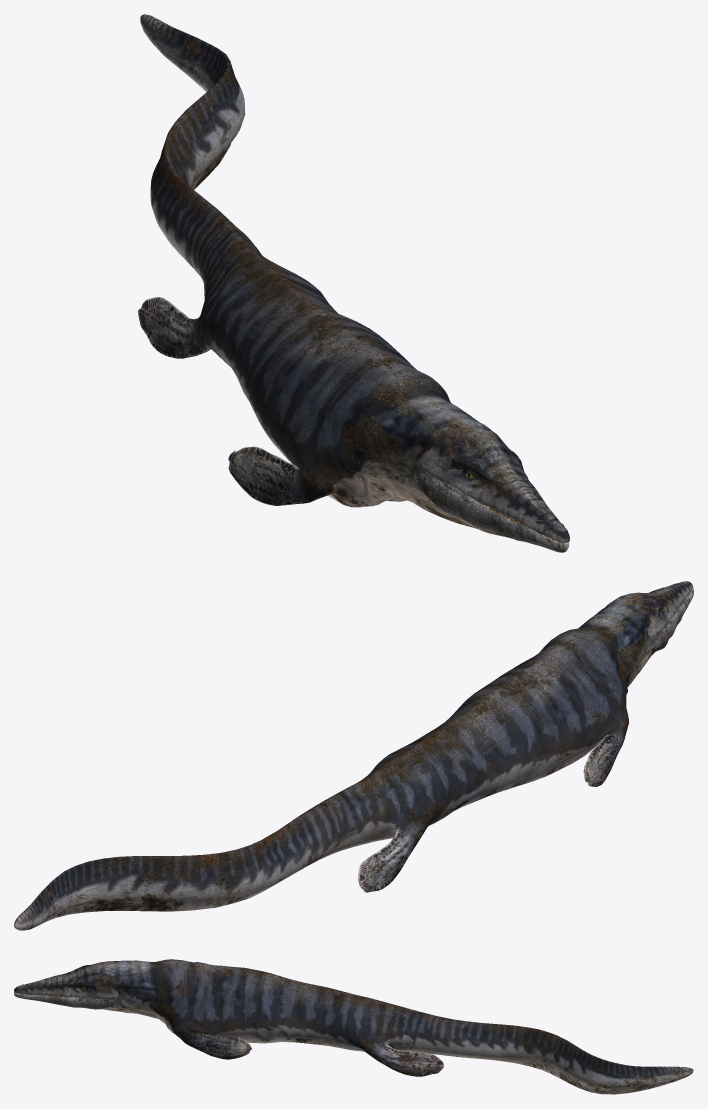
File: mosassauro_parado.glb
The picture shows the model from 3 angles, top to bottom: view 1: azimuth 30°, elevation 25°; view 2: azimuth 150°, elevation 25°; view 3: azimuth 270°, elevation 25°; orthographic projection. The views are drawn at different scales.
Parts seen in each view (by area): view 1: base_body_0_fixo; view 2: base_body_0_fixo; view 3: base_body_0_fixo.
Part boxes in pixels (bbox=[...]): base_body_0_fixo: bbox=[138, 14, 569, 552]; base_body_0_fixo: bbox=[14, 581, 693, 930]; base_body_0_fixo: bbox=[14, 959, 693, 1094].
Bounding box in the file's own units: 4.02 × 1.7 × 12.54.
Materials: 4 (4 with a texture image).
